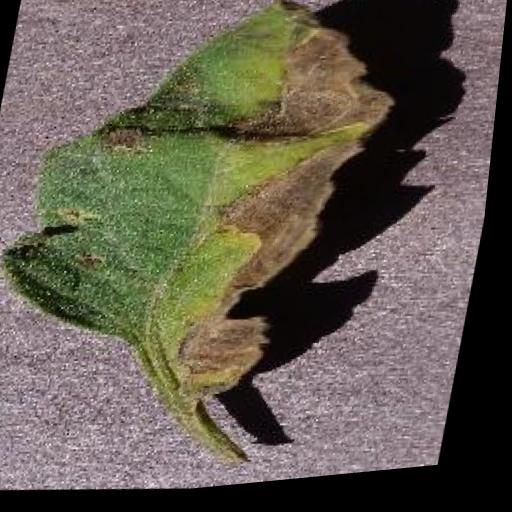Early Blight: (0, 0, 413, 434)
